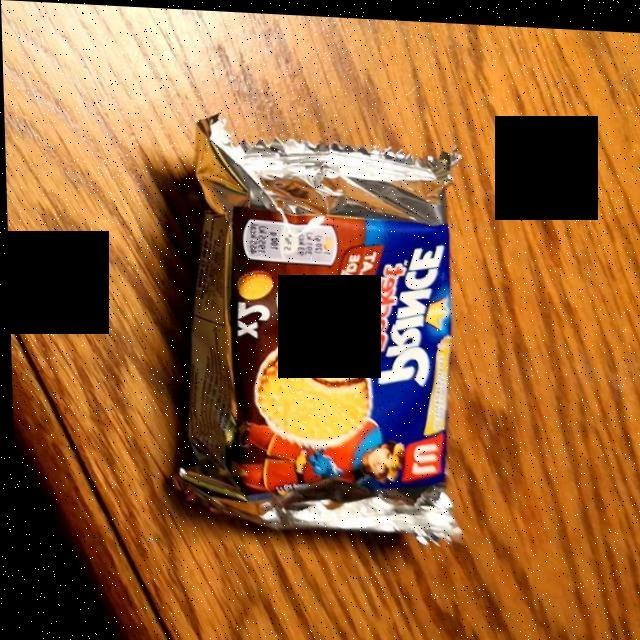biscuits: (227, 150, 446, 521)
